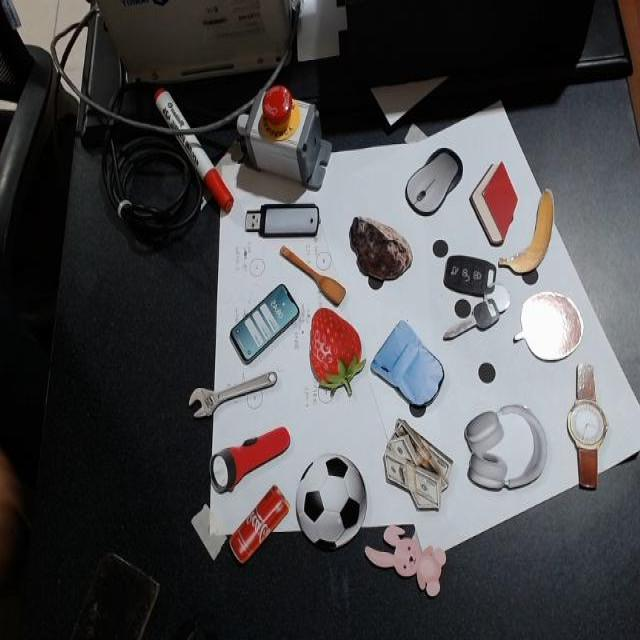Other Objects: (368, 315, 453, 427), (226, 277, 305, 370), (464, 404, 547, 492), (206, 423, 298, 498), (399, 134, 470, 228), (297, 455, 366, 548), (384, 419, 453, 511), (365, 524, 448, 596), (230, 283, 301, 365), (278, 231, 350, 311), (567, 361, 610, 489), (229, 484, 291, 564), (499, 188, 555, 275), (187, 370, 280, 421), (189, 369, 278, 417), (350, 215, 414, 281), (246, 204, 319, 237)
